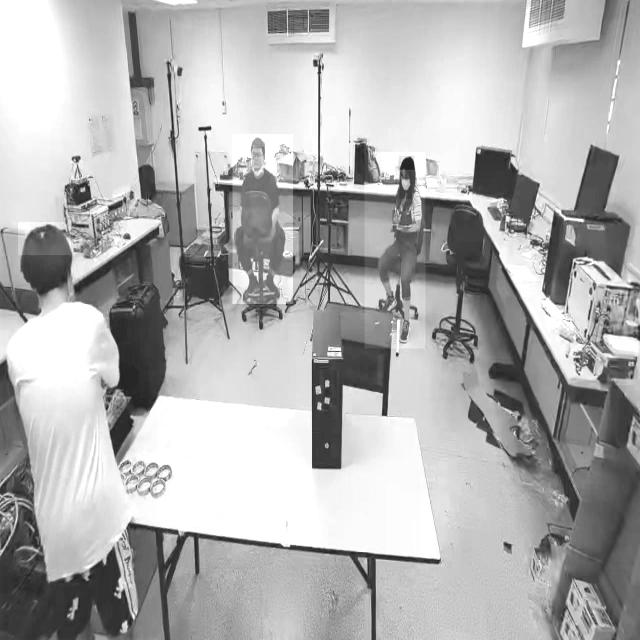face_mask: (400, 172, 412, 199)
face_nomask: (250, 147, 264, 169)
hand_noglove: (393, 210, 399, 225)
head_nohelmet: (18, 222, 72, 256), (399, 156, 415, 170), (250, 136, 264, 148)
person: (2, 223, 158, 639), (364, 152, 426, 349), (232, 134, 294, 305)
shoes: (243, 269, 261, 299), (263, 272, 283, 299), (380, 288, 400, 315), (398, 313, 412, 347)
